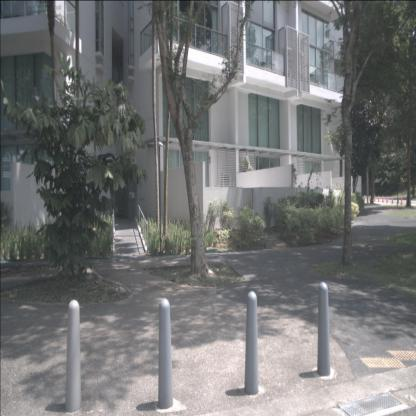movable_object-trafficcone: (400, 196, 403, 205), (363, 194, 366, 203), (391, 196, 394, 204), (386, 195, 389, 203), (369, 194, 371, 203), (382, 195, 384, 203), (374, 194, 376, 202), (378, 195, 380, 202)
